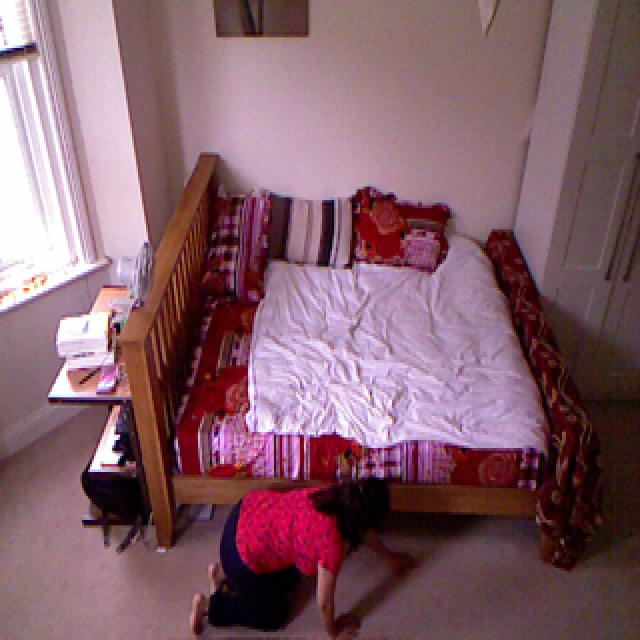crawling: (186, 471, 415, 640)
